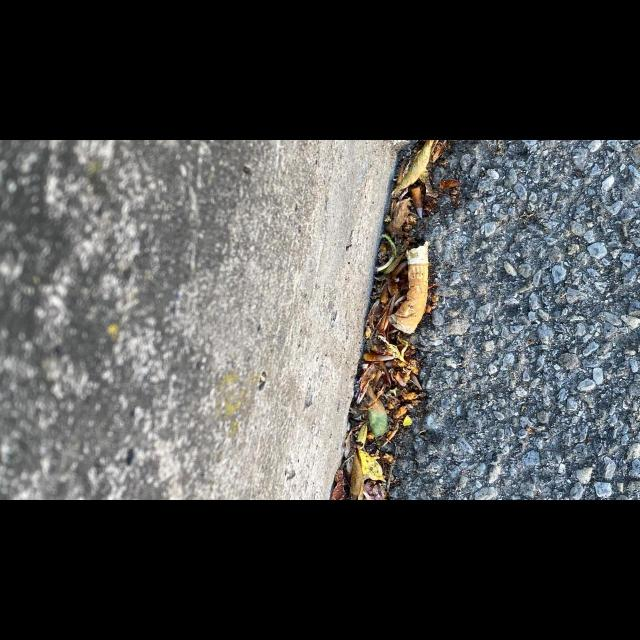cigarette: (387, 240, 429, 335)
